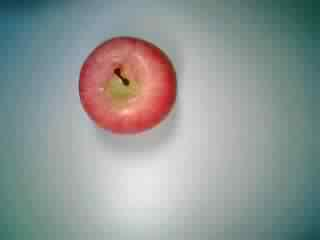apple: (74, 36, 180, 140)
